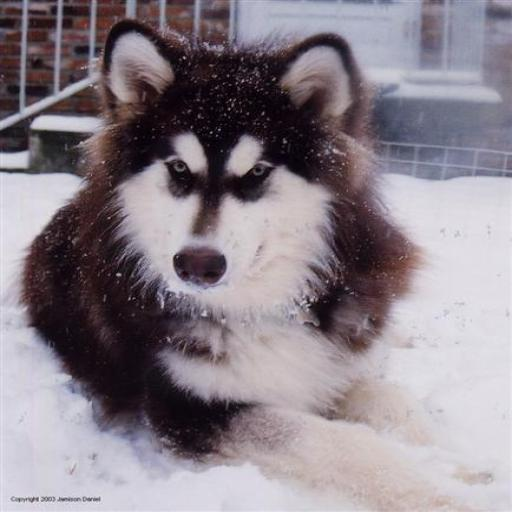dog_face: (88, 30, 366, 294)
